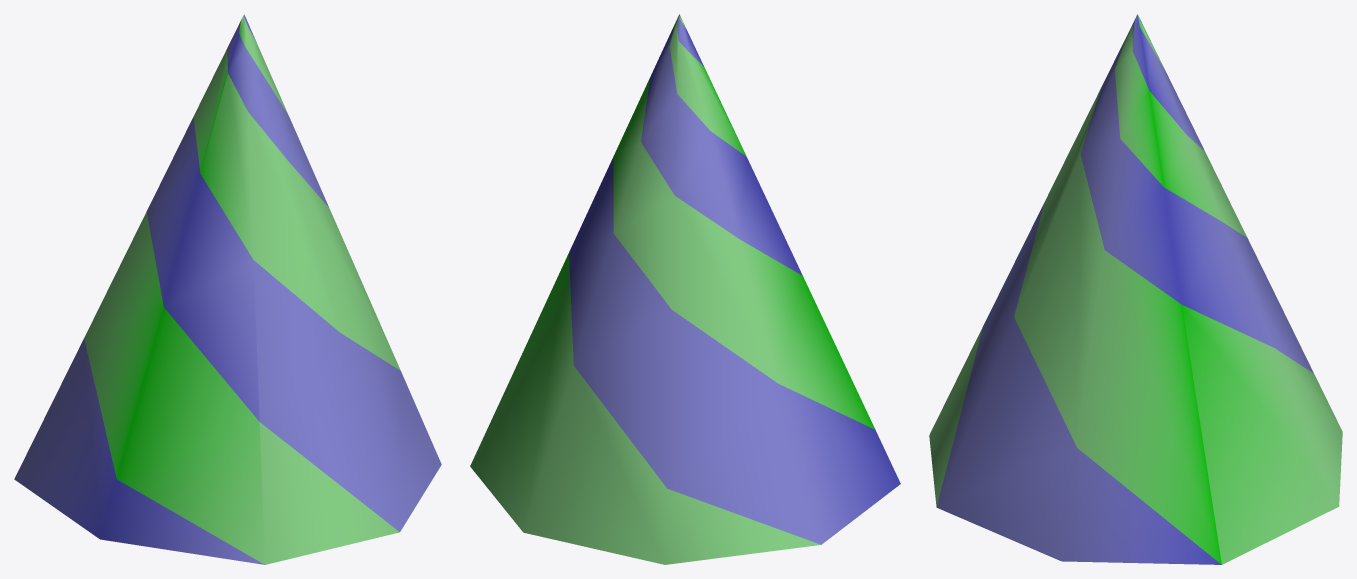
The model's file is hatB_0.glb.
3 views of the same model, side by side, from view 1: azimuth 30°, elevation 25°; view 2: azimuth 150°, elevation 25°; view 3: azimuth 270°, elevation 25° (orthographic).
Visible parts, largest first — view 1: hatB; view 2: hatB; view 3: hatB.
Part boxes in pixels (x1,y1,x2,y2): hatB: (14,14,441,564); hatB: (470,14,900,564); hatB: (929,14,1342,564).
Bounding box in the file's own units: 0.245 × 0.3062 × 0.245.
